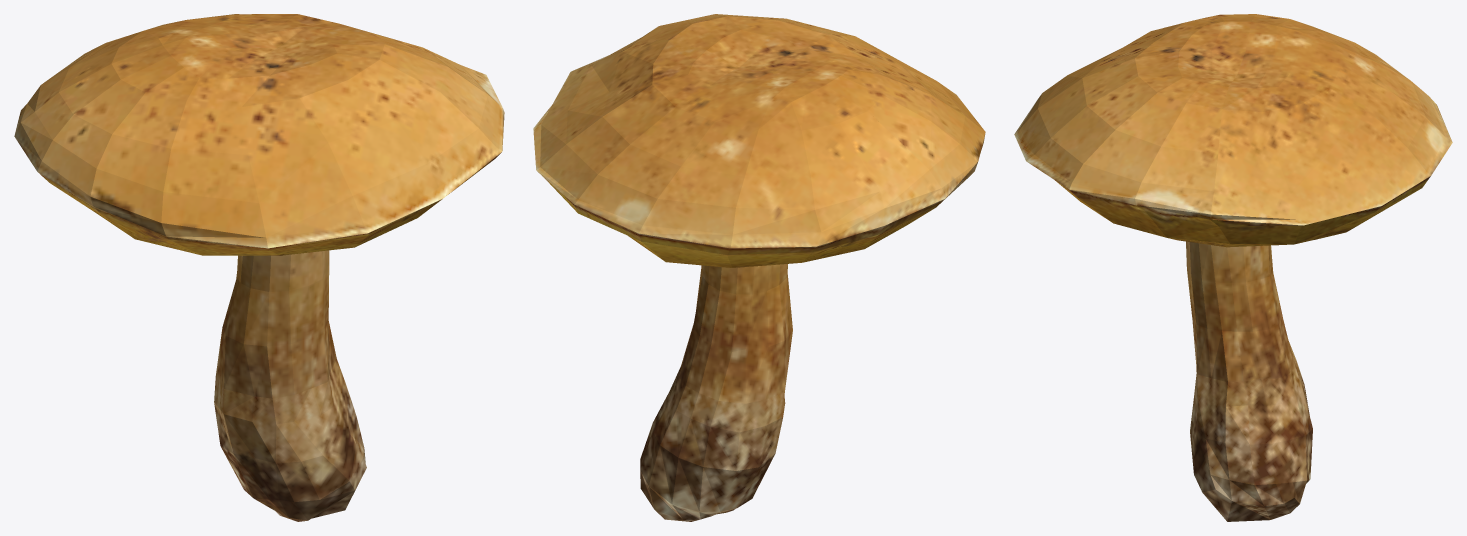
File: P_Songrong_03.obj
The picture shows the model from 3 angles, left to right: view 1: azimuth 30°, elevation 25°; view 2: azimuth 150°, elevation 25°; view 3: azimuth 270°, elevation 25°; orthographic projection. The views are drawn at different scales.
Bounding box in the file's own units: 0.5898 × 0.6514 × 0.595.
1 material, 1 textured.
